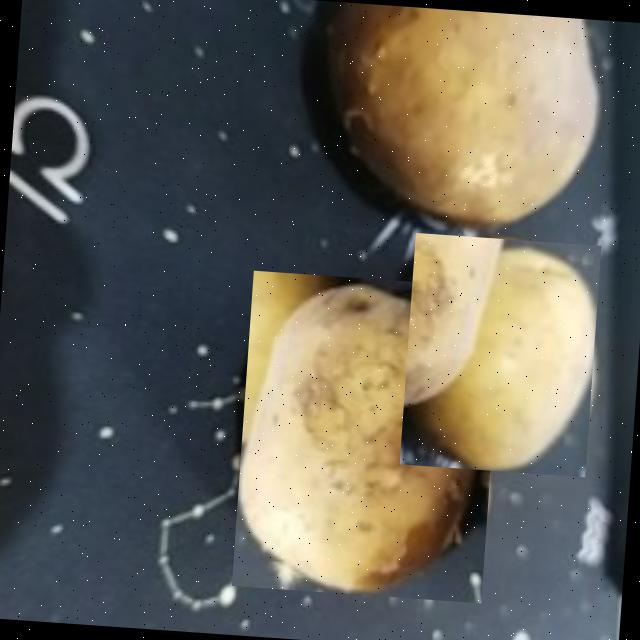Damaged potato: (232, 269, 502, 602), (292, 1, 610, 236)
Potato: (399, 232, 601, 476)
